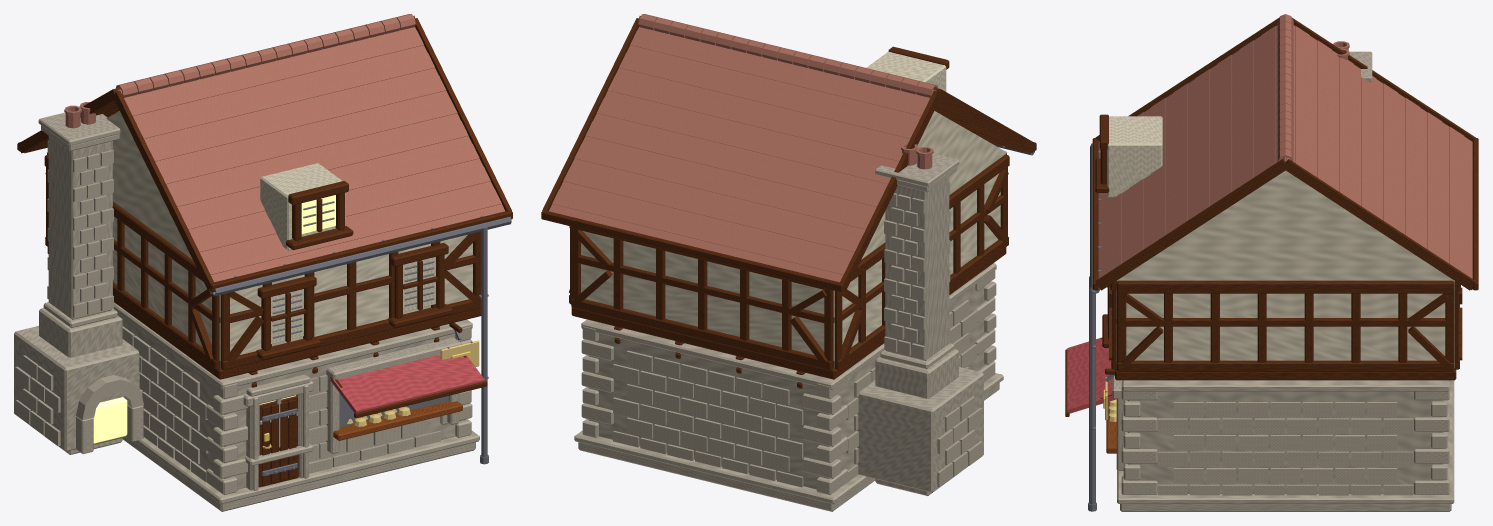
File: fantasy-mmo-city-and-townsfolk-city-bakery-c5db5aec__32731.glb
3 renders of one model, left to right at view 1: azimuth 30°, elevation 25°; view 2: azimuth 150°, elevation 25°; view 3: azimuth 270°, elevation 25°, orthographic.
Parts seen in each view (by area): view 1: city-bakery, awning/red, door/timber, awning/timber; view 2: city-bakery; view 3: city-bakery, awning/red.
Part boxes in pixels (x1,y1,x2,y2): city-bakery: (14, 14, 512, 511); awning/red: (330, 354, 484, 412); door/timber: (258, 395, 298, 487); awning/timber: (335, 355, 487, 418); city-bakery: (541, 14, 1036, 511); city-bakery: (1088, 14, 1478, 511); awning/red: (1067, 337, 1118, 413).
Bounding box in the file's own units: 10.11 × 10.2 × 10.42.
10 materials, 6 textured.
